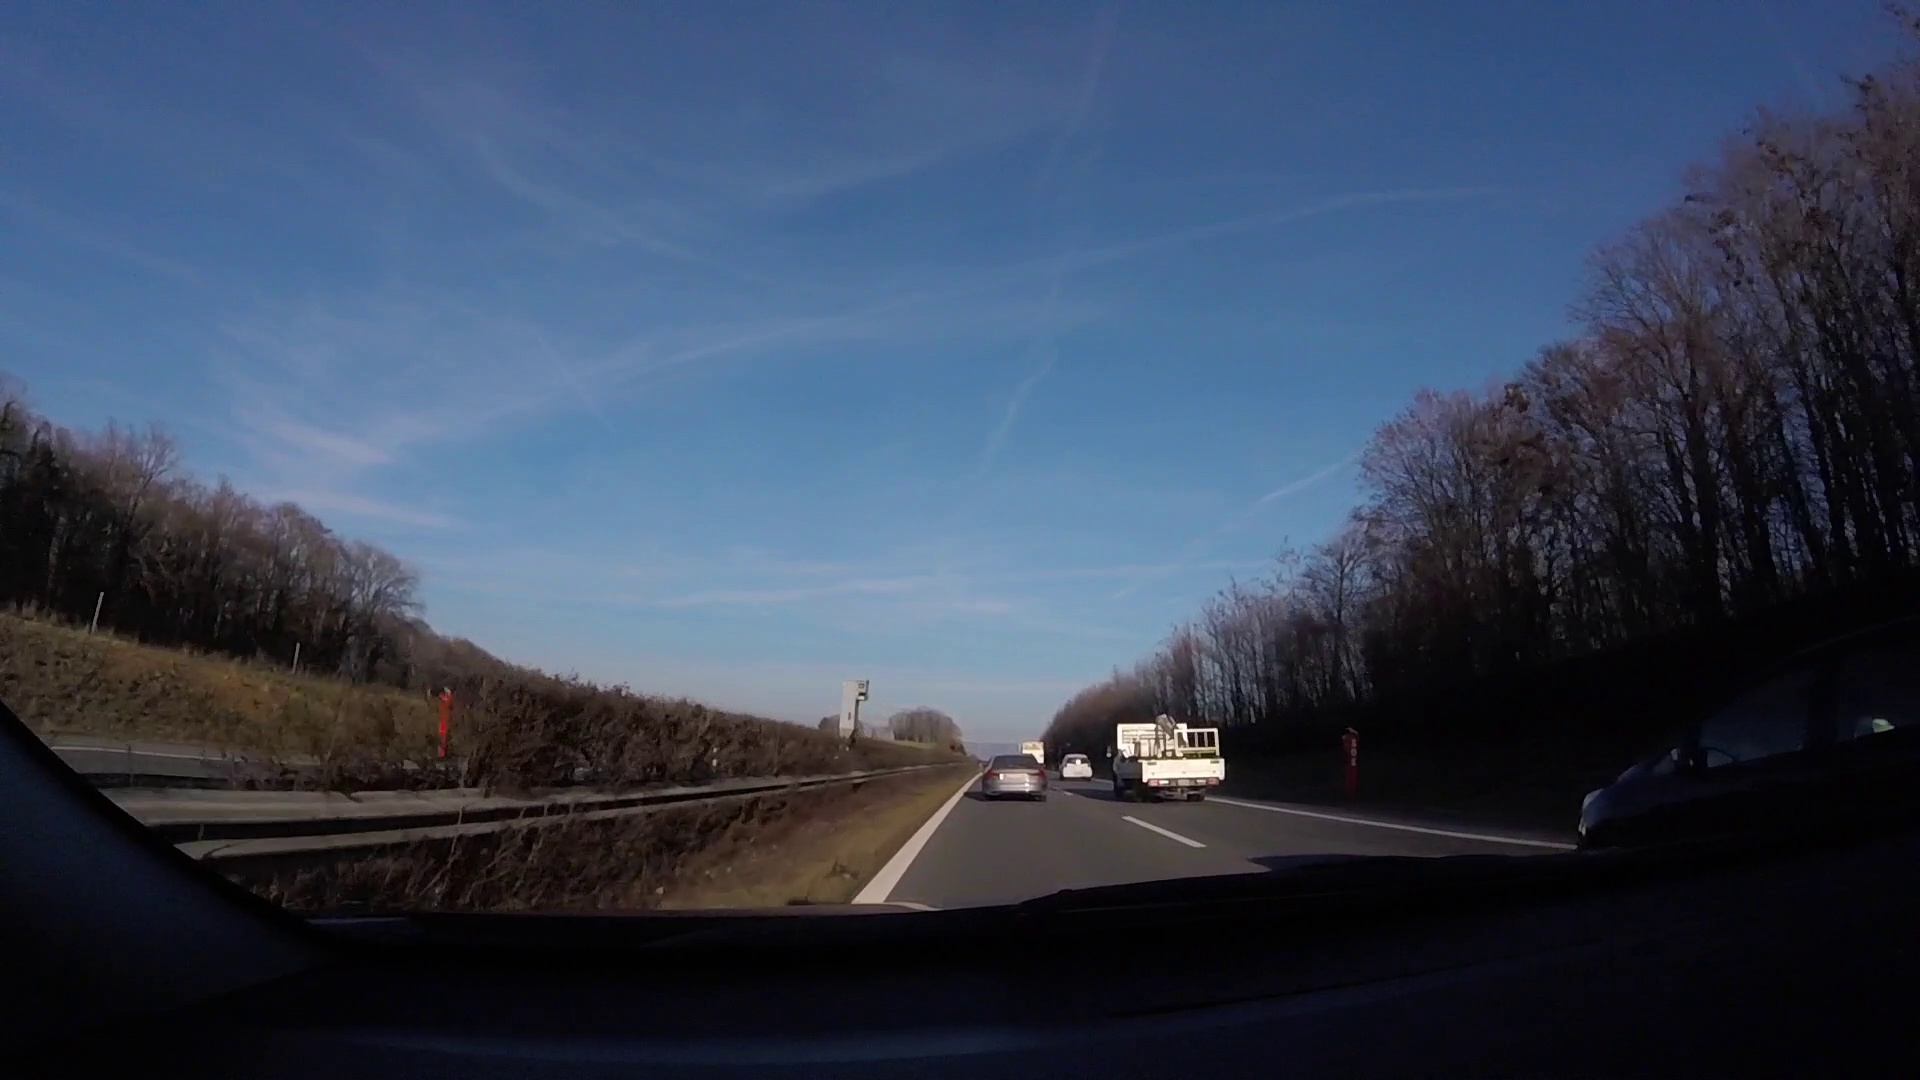radar: (837, 676, 872, 741)
